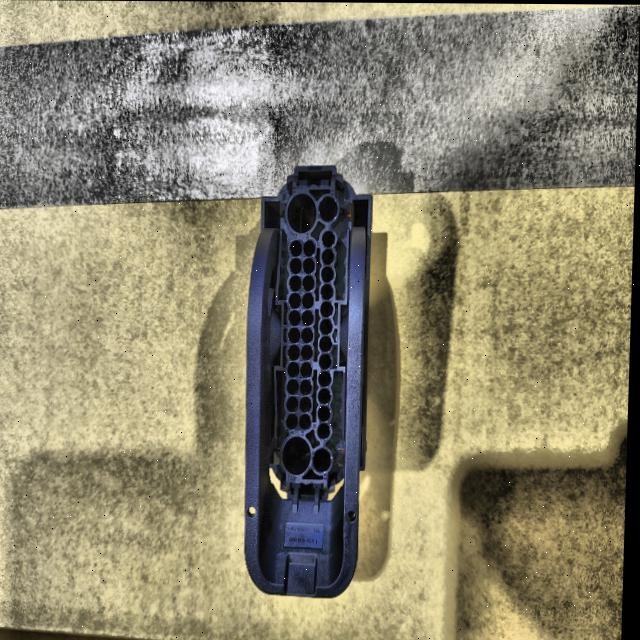P38: (248, 165, 373, 597)
